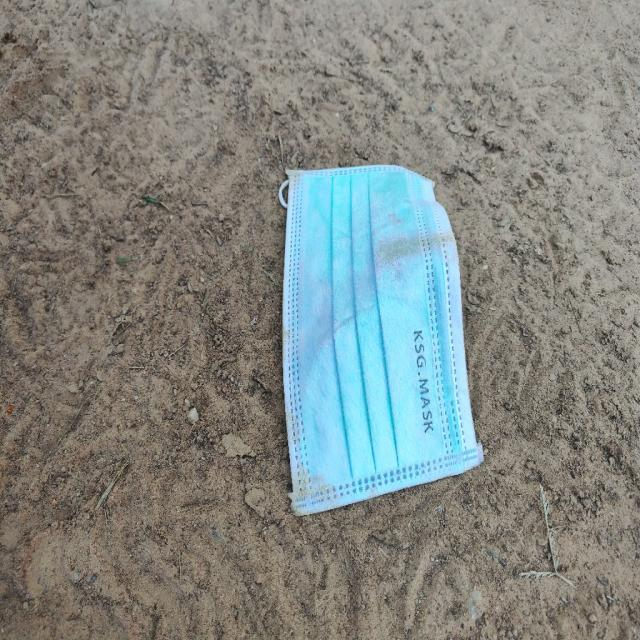non-organic waste: (277, 156, 485, 516)
